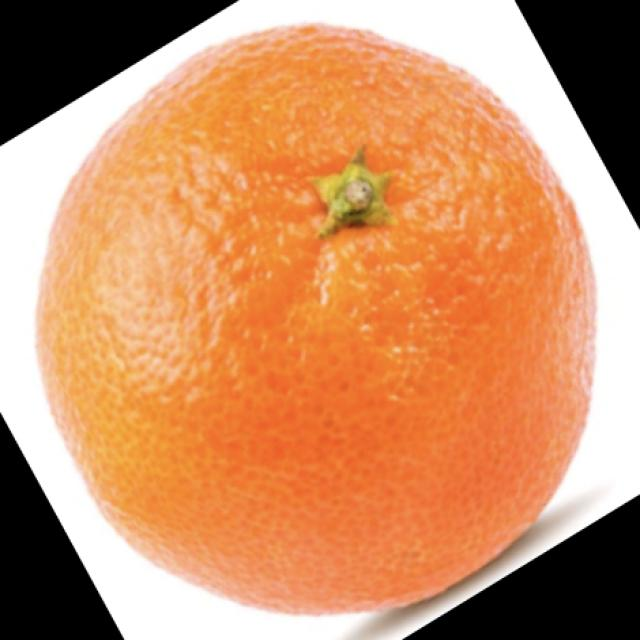fresh: (29, 23, 608, 639)
